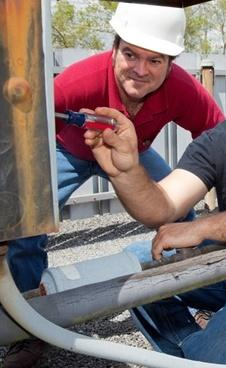boots: (0, 336, 49, 368)
hard-hat: (108, 1, 186, 56)
